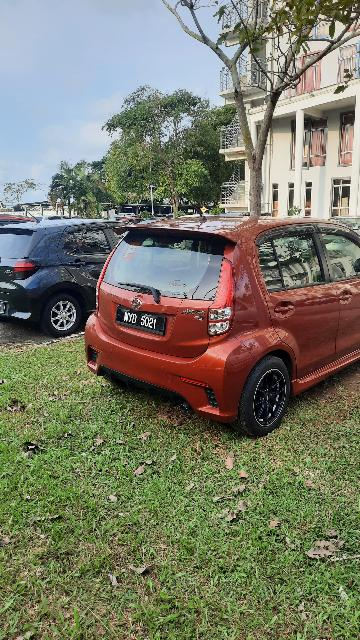License_Plate: (112, 304, 169, 340)
car: (88, 213, 360, 437), (1, 217, 149, 345)
